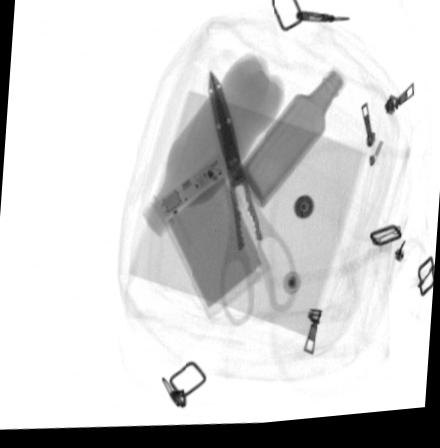Powerbank: (150, 158, 271, 328)
Scissors: (208, 67, 299, 333)
